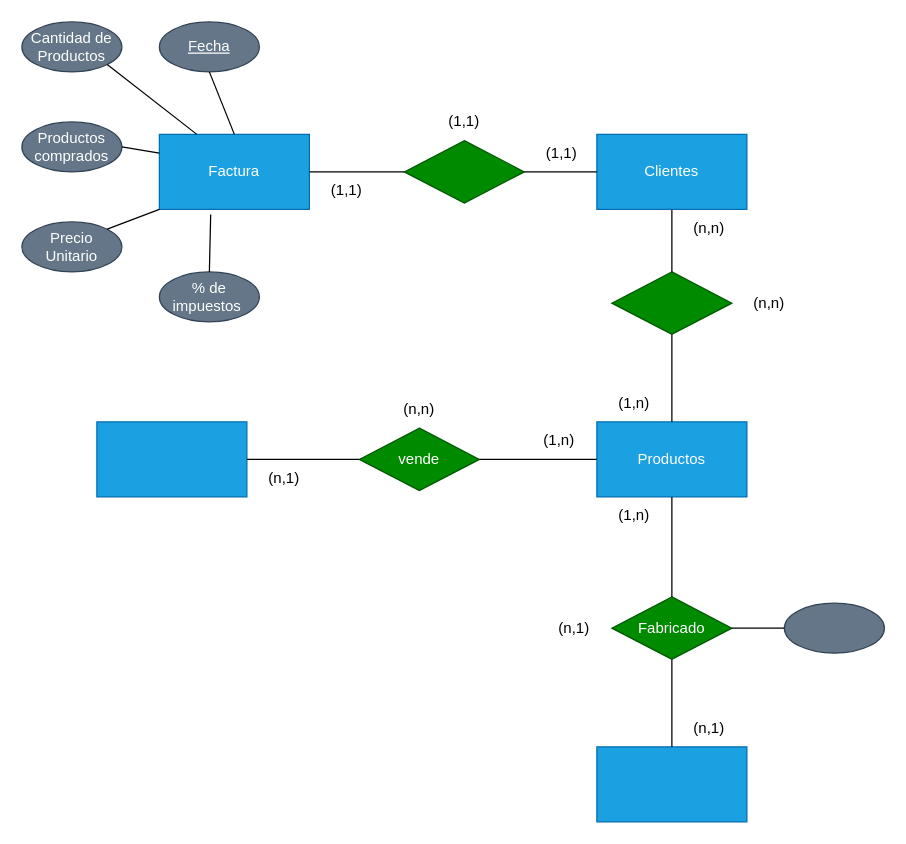
Some shapes in this 906 by 844 pixel diagram are drawn without their labels. The centre of each missing label's shape, as x and y in pixels:
"Comprado" belongs at point (671, 302).
"Fabricantes" belongs at point (671, 784).
"Ferreteria" belongs at point (171, 459).
"Genera" belongs at point (463, 171).
"Precio" belongs at point (833, 627).
